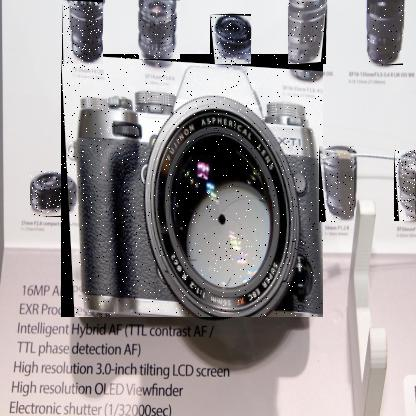Camera: (62, 56, 325, 320), (320, 147, 356, 224), (63, 1, 105, 66), (289, 1, 328, 66), (140, 1, 182, 61), (369, 1, 405, 67), (212, 15, 254, 66), (31, 172, 69, 219), (395, 151, 416, 223)
